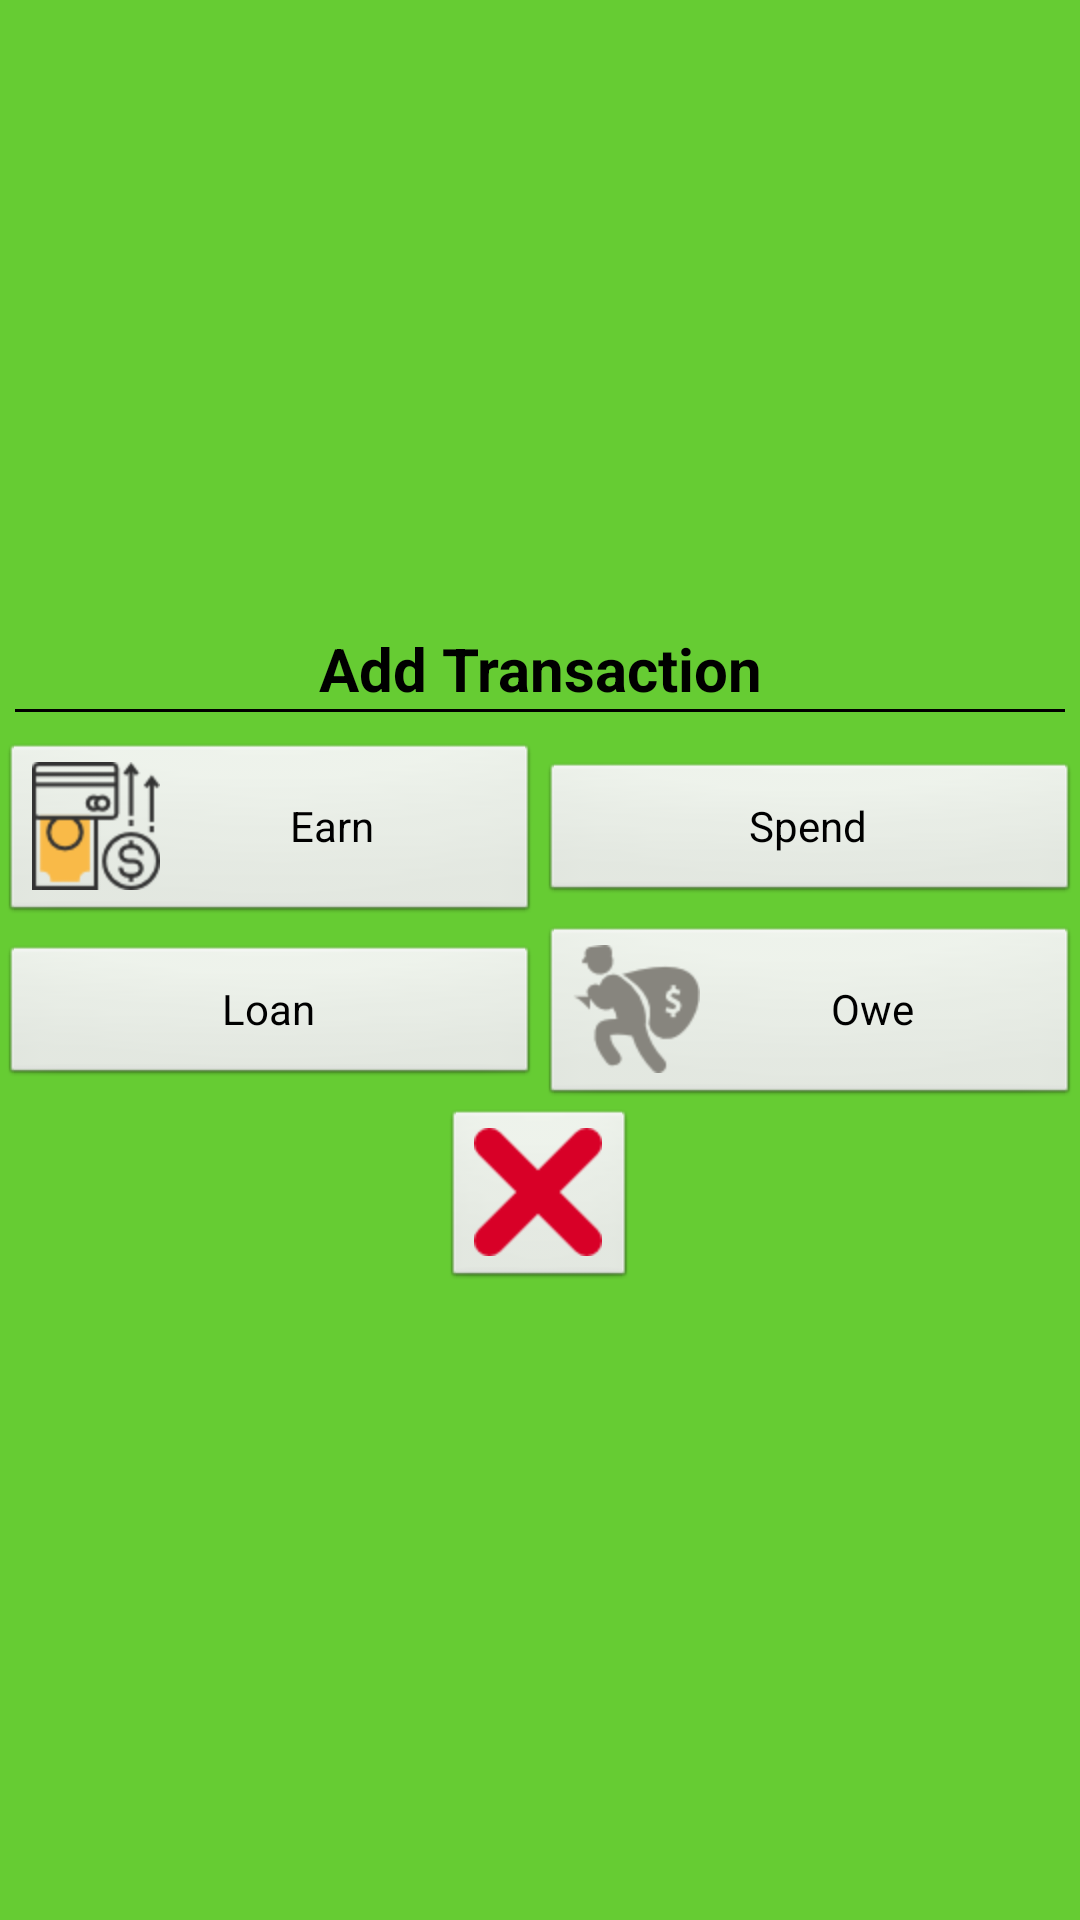

Where icons sit on this 1080px x 1920px app screen, as (x1, y1, x2, y2):
cancel: (451, 1111, 627, 1277)
